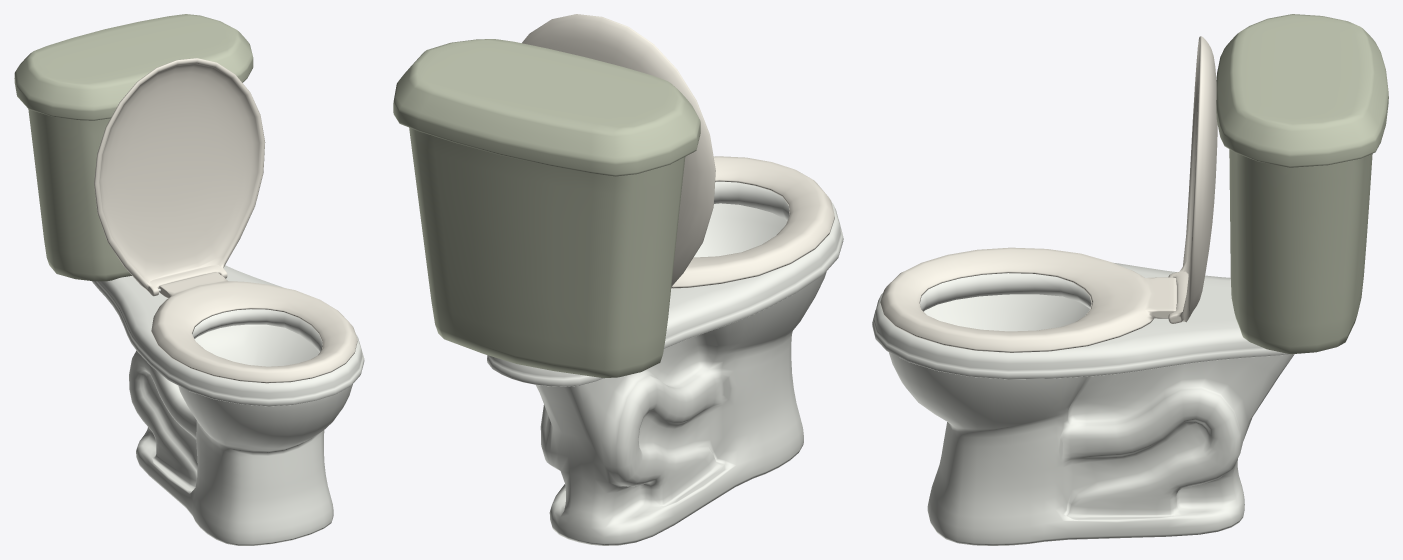
The model's file is toilette.glb.
3 views of the same model, side by side, from view 1: azimuth 30°, elevation 25°; view 2: azimuth 150°, elevation 25°; view 3: azimuth 270°, elevation 25° (orthographic). The views are drawn at different scales.
Visible parts, largest first — view 1: Object_3, Object_4; view 2: Object_3, Object_4; view 3: Object_3, Object_4.
Part boxes in pixels (x1,y1,x2,y2): Object_3: (14, 14, 364, 545); Object_4: (94, 58, 357, 383); Object_3: (393, 39, 843, 545); Object_4: (522, 14, 834, 288); Object_3: (872, 14, 1388, 545); Object_4: (880, 36, 1217, 352).
Bounding box in the file's own units: 0.454 × 0.7746 × 0.7748.
